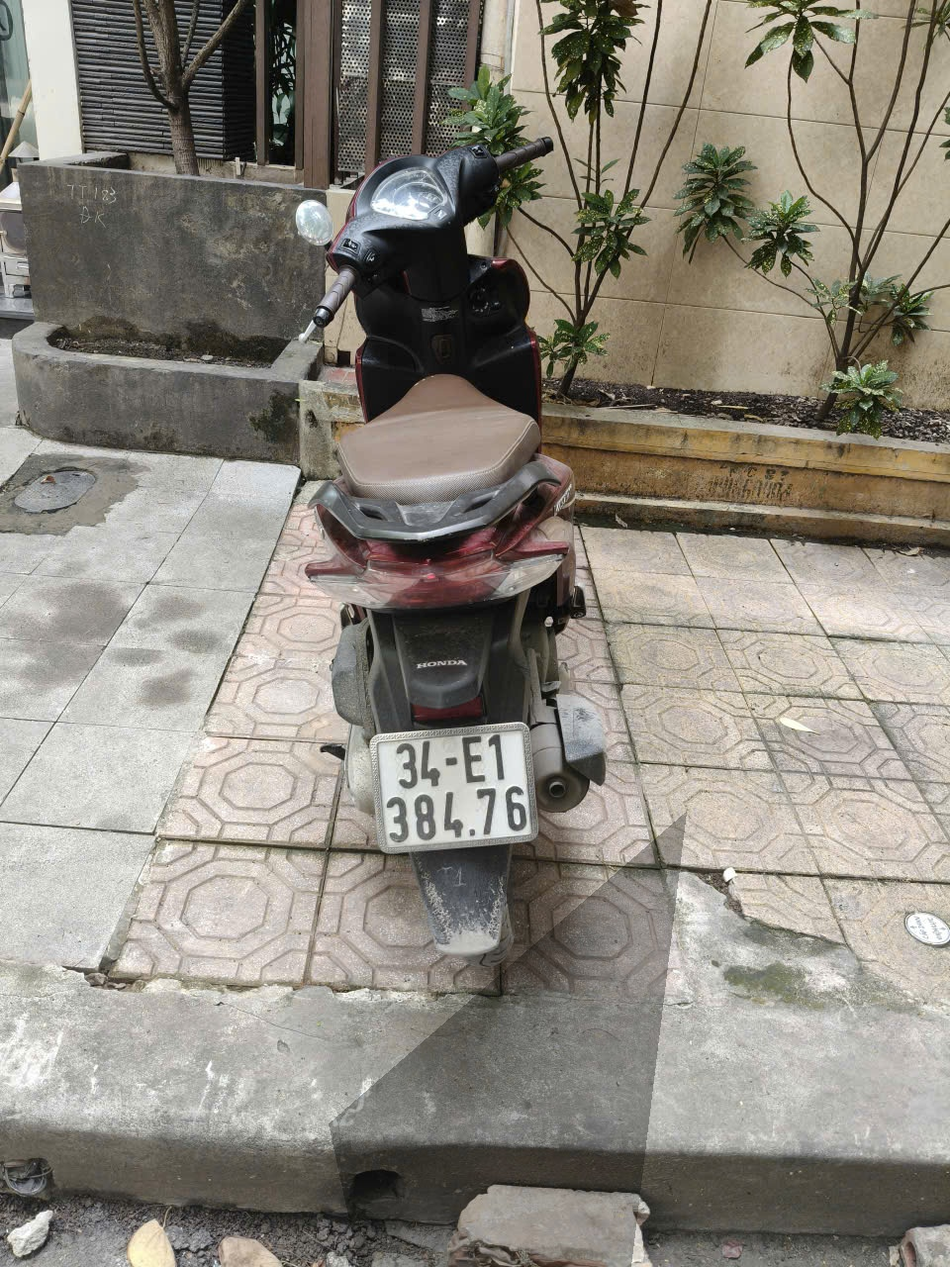plate: (249, 581, 387, 625)
